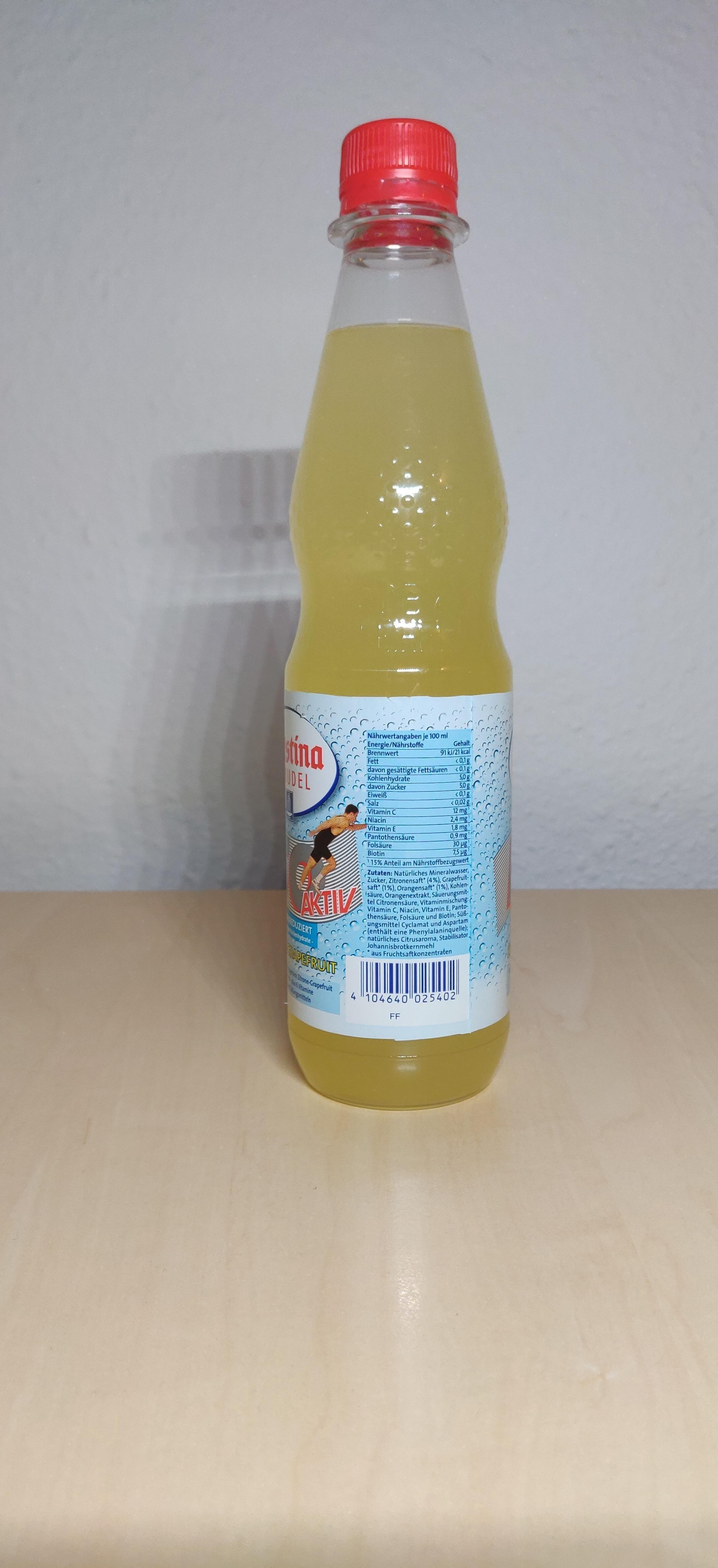bottle-plastic: (278, 114, 523, 1111)
